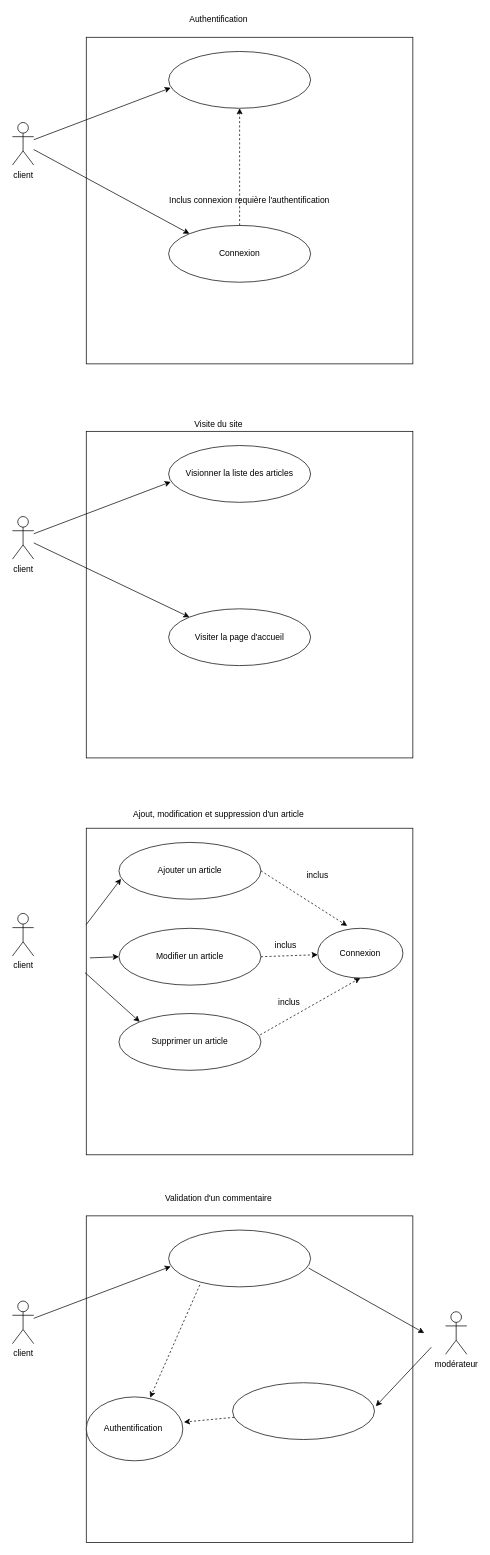
Some shapes in this 490 by 1555 pixel diagram are drawn without their labels. Each missing label, with the centre of its shape:
Inscription: pixel 239 79
Rédiger et envoie un commentaire: pixel 239 1258
Valide le commentaire: pixel 303 1411
